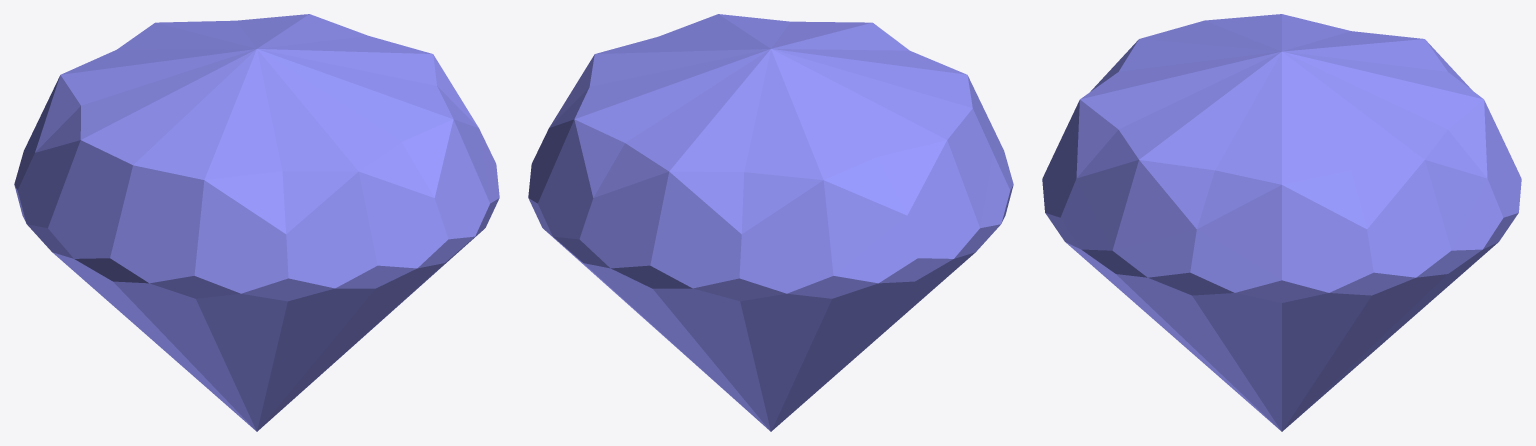
File: diamond.fbx
The picture shows the model from 3 angles, left to right: view 1: azimuth 30°, elevation 25°; view 2: azimuth 150°, elevation 25°; view 3: azimuth 270°, elevation 25°; orthographic projection.
Parts seen in each view (by area): view 1: Dia; view 2: Dia; view 3: Dia.
Boxes of the visible parts, x1,y1,x2,y2 form: Dia: (14, 14, 499, 431); Dia: (528, 14, 1013, 431); Dia: (1042, 14, 1521, 431).
Size of the model in its own units: 153 by 134 by 153.
